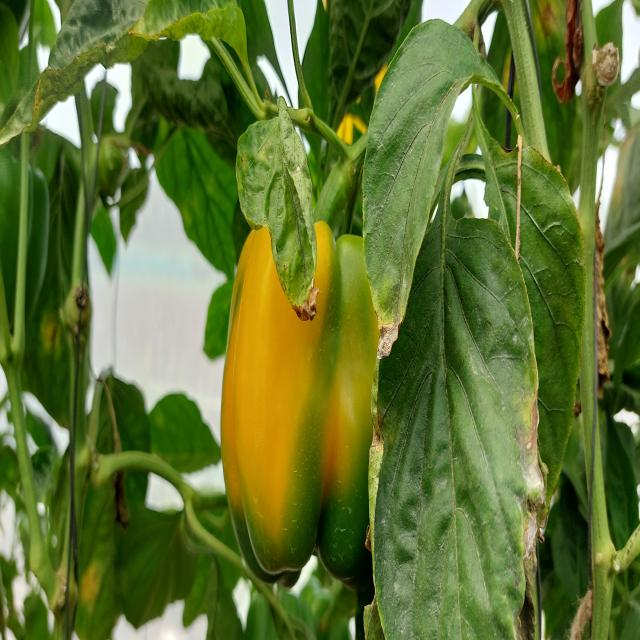GreenishYellow--Can-be-Harvested: (225, 194, 396, 566)
